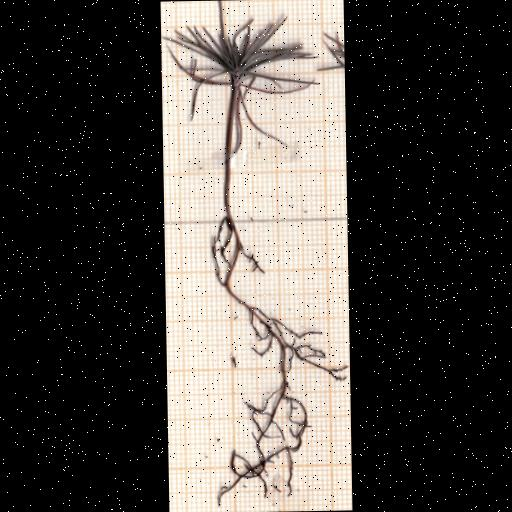flowerCedr: (165, 1, 317, 96)
rootCedr: (211, 215, 344, 503)
stemCedr: (222, 85, 241, 223)
